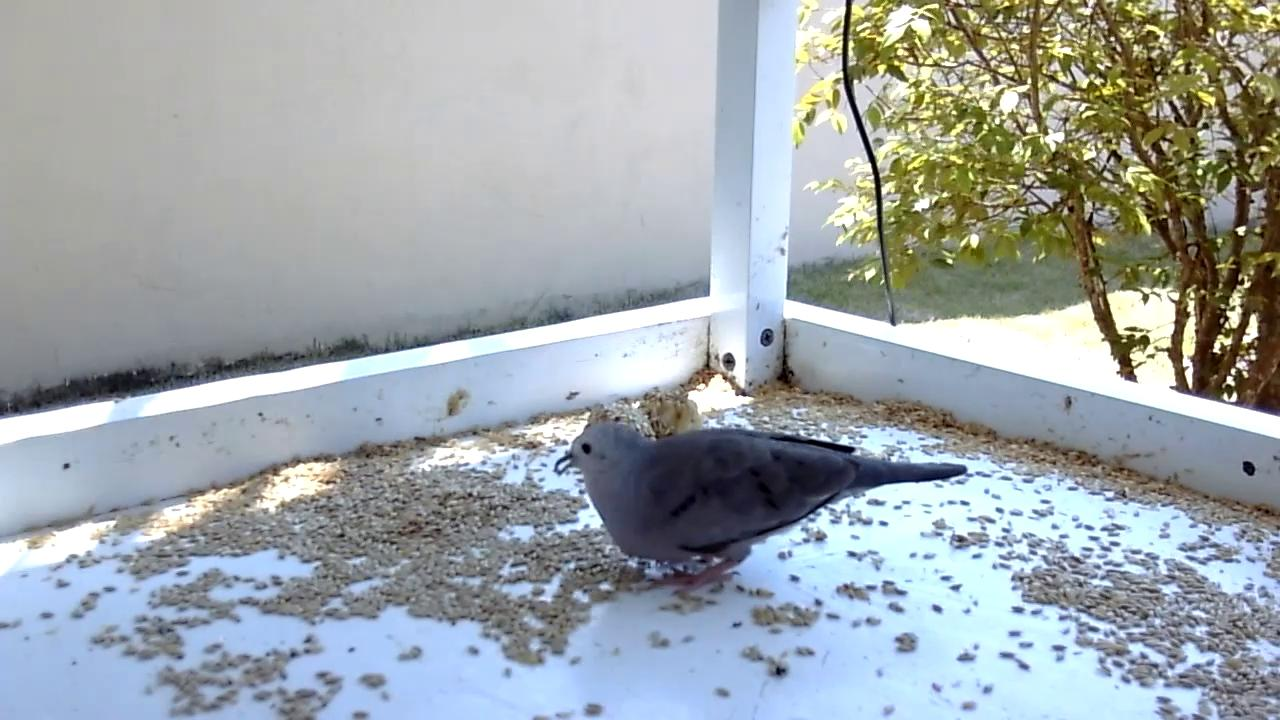rolinha: (553, 420, 970, 602)
